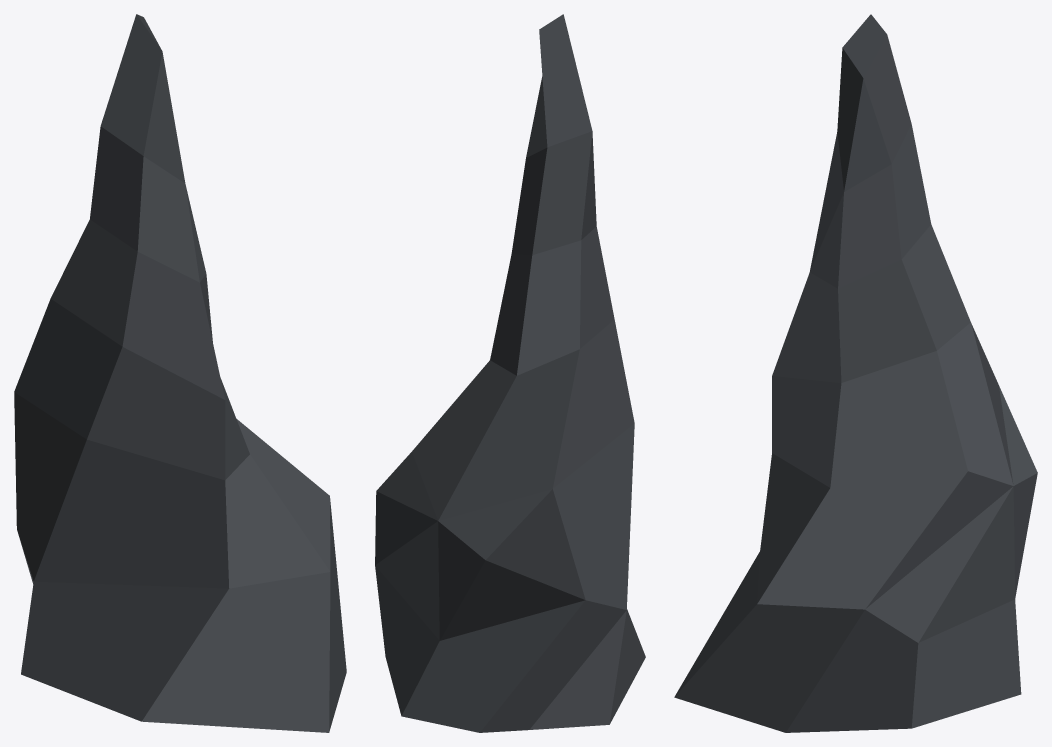
The model's file is Stalagmite_Small.fbx.
3 renders of one model, left to right at view 1: azimuth 30°, elevation 25°; view 2: azimuth 150°, elevation 25°; view 3: azimuth 270°, elevation 25°, orthographic. The views are drawn at different scales.
Parts seen in each view (by area): view 1: Stalagmite_Small; view 2: Stalagmite_Small; view 3: Stalagmite_Small.
Boxes of the visible parts, <box> form: Stalagmite_Small: <box>14,14,346,732</box>; Stalagmite_Small: <box>375,14,645,732</box>; Stalagmite_Small: <box>674,14,1037,732</box>.
Size of the model in its own units: 61.69 by 144 by 73.86.
